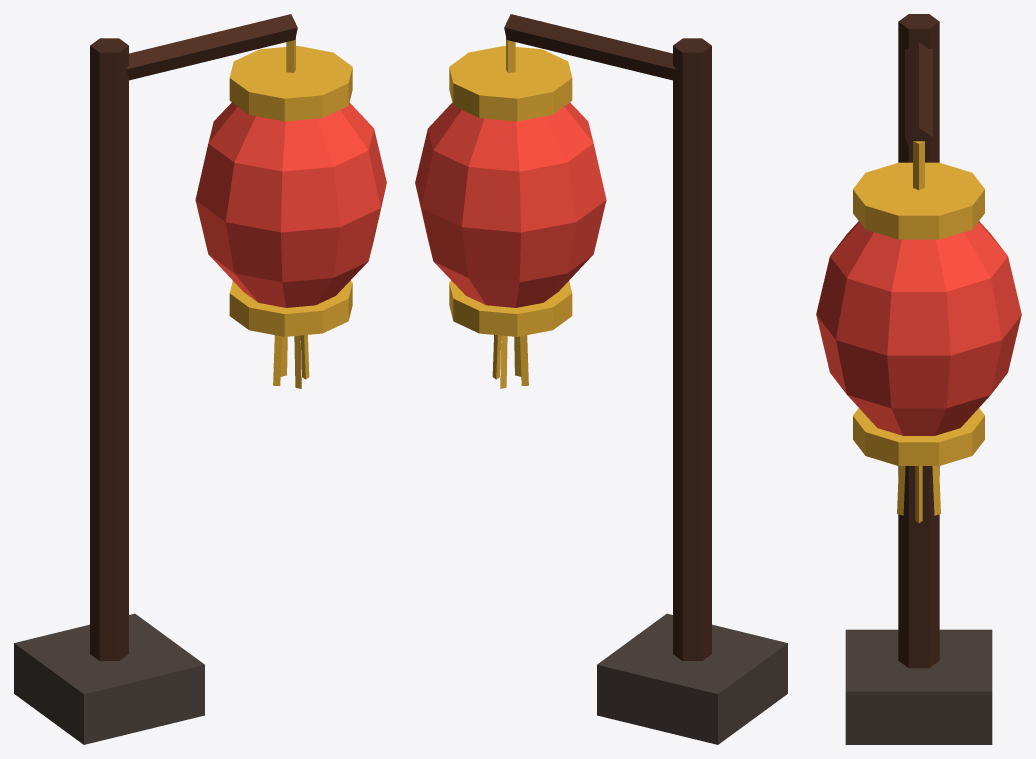
File: DragonLantern.fbx
3 views of the same model, side by side, from view 1: azimuth 30°, elevation 25°; view 2: azimuth 150°, elevation 25°; view 3: azimuth 270°, elevation 25° (orthographic). The views are drawn at different scales.
Parts seen in each view (by area): view 1: DragonLantern, DragonLantern_Glow; view 2: DragonLantern, DragonLantern_Glow; view 3: DragonLantern, DragonLantern_Glow.
Boxes of the visible parts, <box> form: DragonLantern: <box>14,14,352,744</box>; DragonLantern_Glow: <box>195,102,386,307</box>; DragonLantern: <box>449,14,787,744</box>; DragonLantern_Glow: <box>415,102,606,307</box>; DragonLantern: <box>845,14,992,744</box>; DragonLantern_Glow: <box>816,221,1021,435</box>.
Bounding box in the file's own units: 267 × 520 × 140.
1 material, 1 textured.
